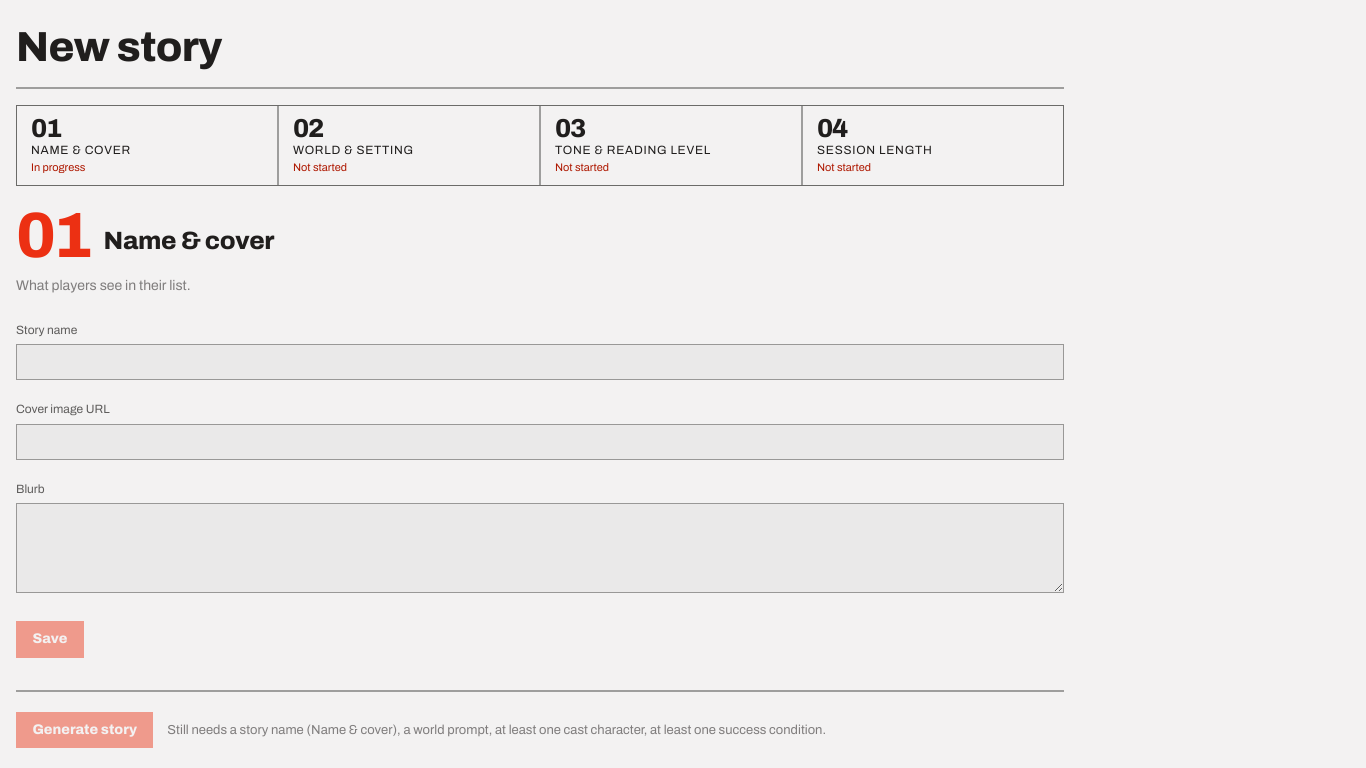
Test case: Story wizard saves with a current token and confirms only real saves (#137) › does not claim the name was saved when the server rejected the write
The image size is (1366, 768).
In the field labelled "Story name": (540, 362) [16, 344, 1064, 380], type "The Lighthouse"
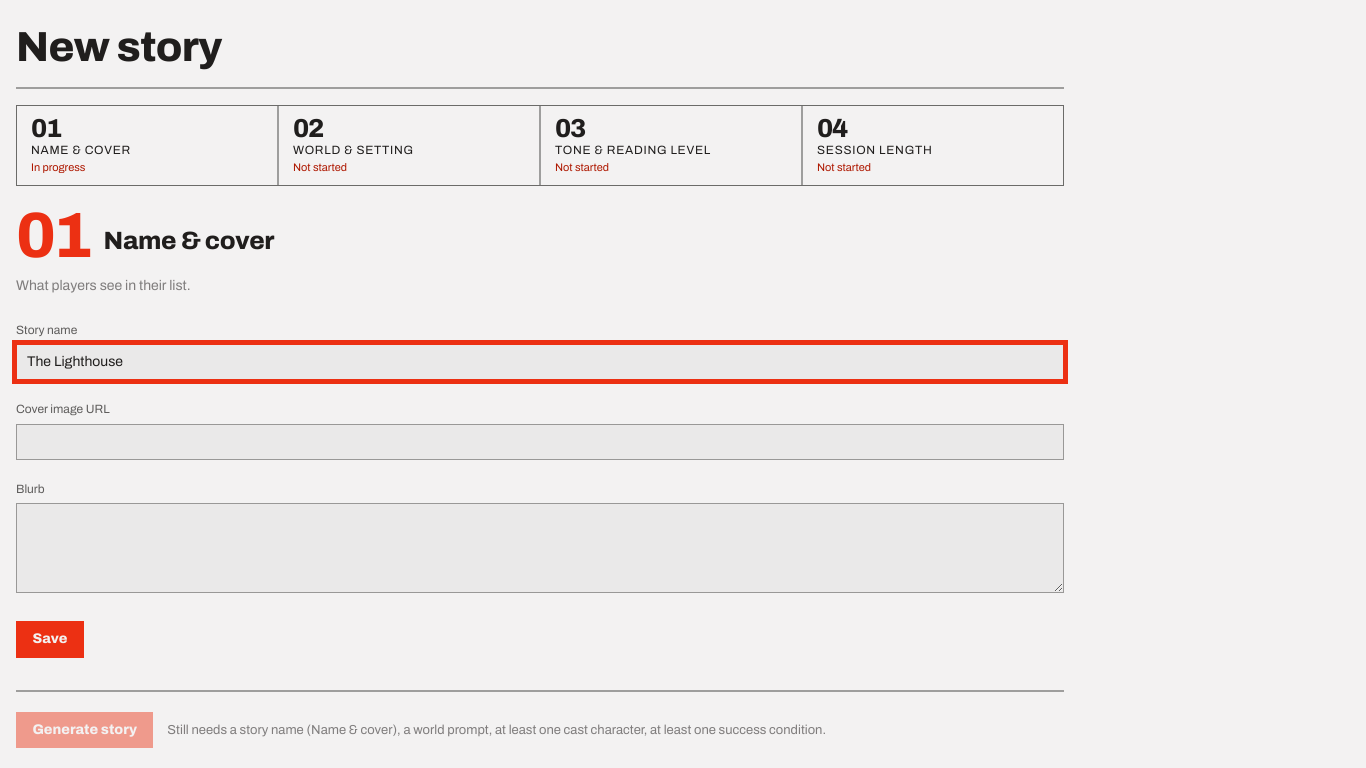
Click the button "Save": (50, 639) [16, 621, 84, 658]
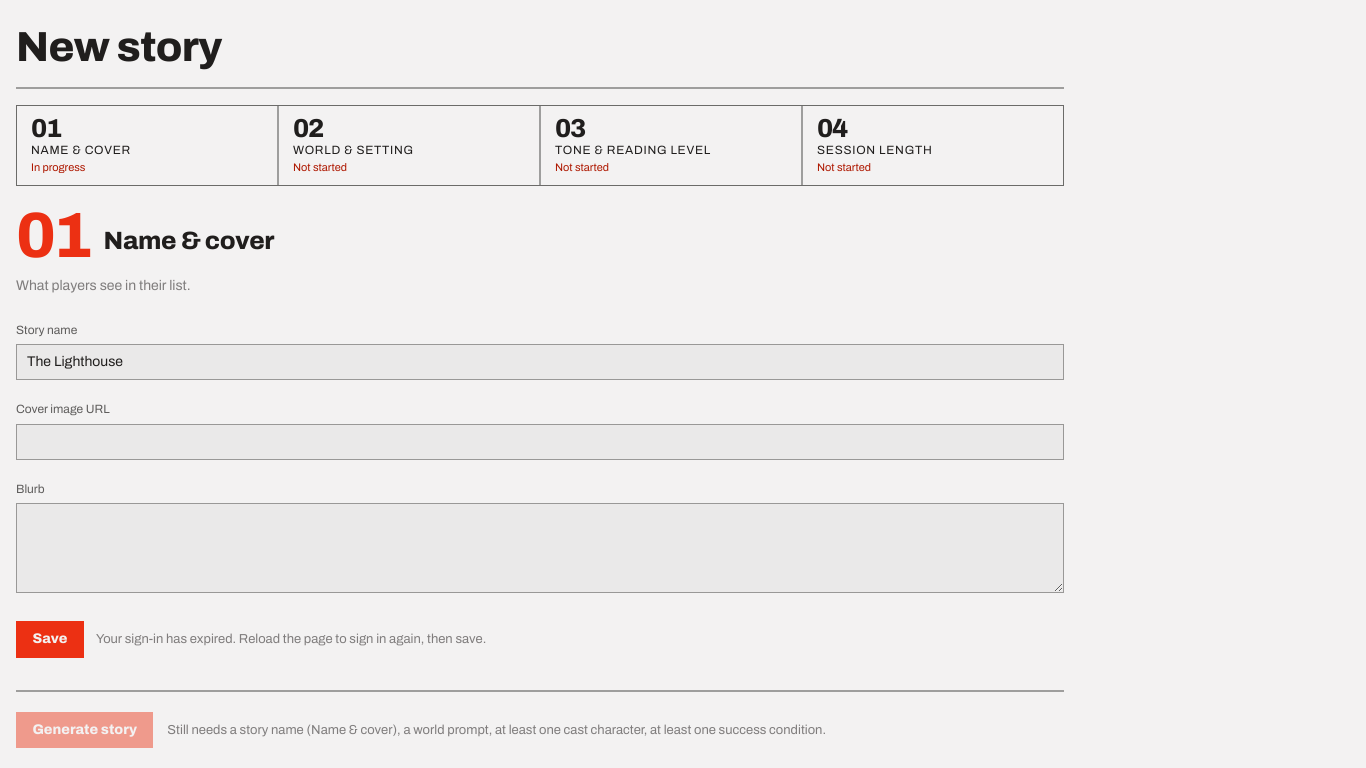
Now the message shows "sign-in has expired", box [96, 632, 486, 646]
